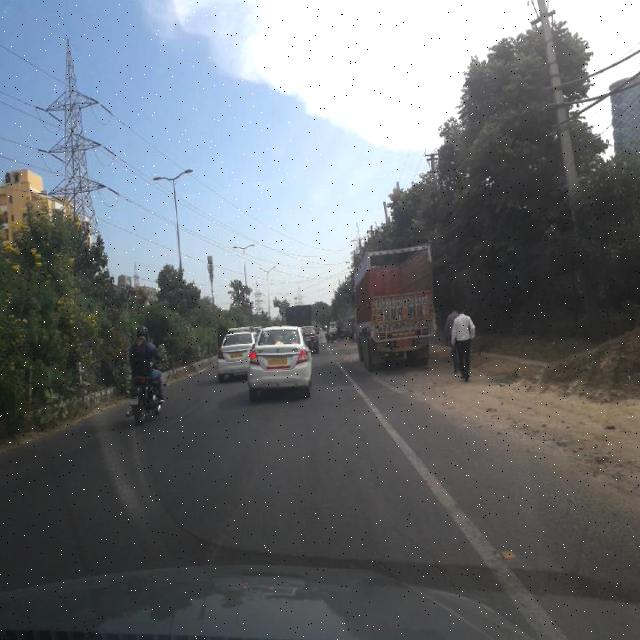D00: (388, 510, 464, 582), (348, 468, 388, 574)
